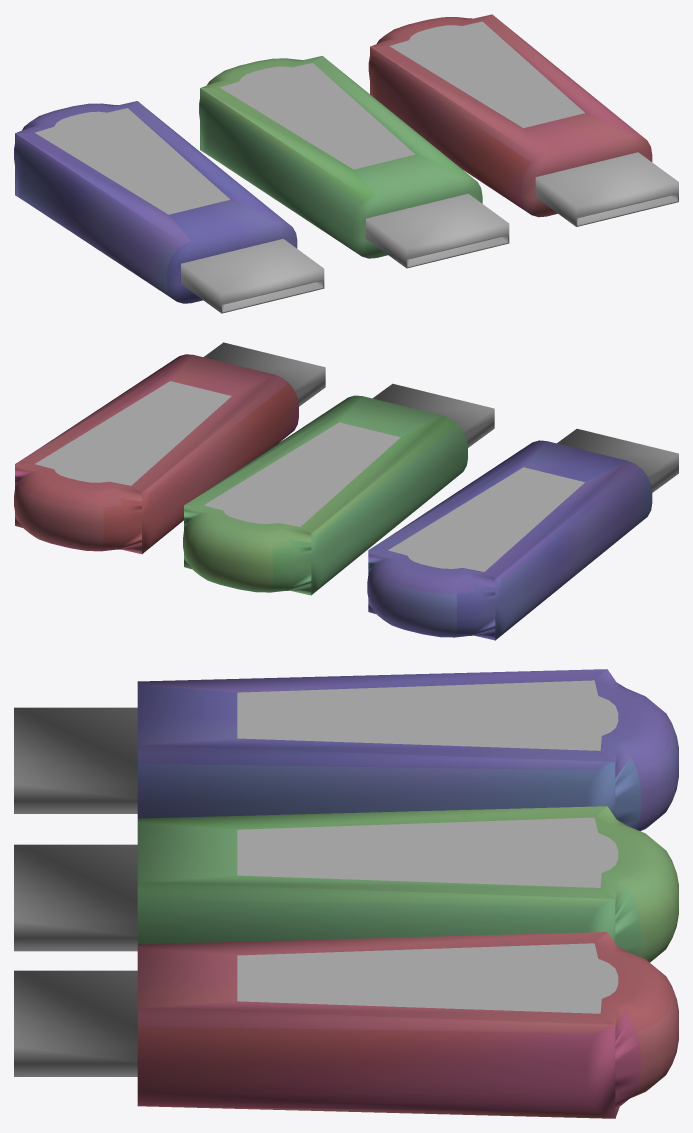
The model's file is FLASHDRIVES.fbx.
3 views of the same model, one above another, from view 1: azimuth 30°, elevation 25°; view 2: azimuth 150°, elevation 25°; view 3: azimuth 270°, elevation 25° (orthographic). The views are drawn at different scales.
Visible parts, largest first — view 1: GreenFlashDrive.002, GreenFlashDrive.003, GreenFlashDrive.001; view 2: GreenFlashDrive.002, GreenFlashDrive.003, GreenFlashDrive.001; view 3: GreenFlashDrive.001, GreenFlashDrive.002, GreenFlashDrive.003.
Boxes of the visible parts, x1,y1,x2,y2 form: GreenFlashDrive.002: (14, 101, 324, 313); GreenFlashDrive.003: (199, 56, 509, 268); GreenFlashDrive.001: (368, 14, 678, 226); GreenFlashDrive.002: (367, 428, 678, 640); GreenFlashDrive.003: (183, 383, 494, 595); GreenFlashDrive.001: (14, 342, 325, 554); GreenFlashDrive.001: (14, 932, 678, 1118); GreenFlashDrive.002: (14, 669, 678, 831); GreenFlashDrive.003: (14, 806, 678, 962).
Size of the model in its own units: 743 by 90.72 by 581.
3 materials, 3 textured.
